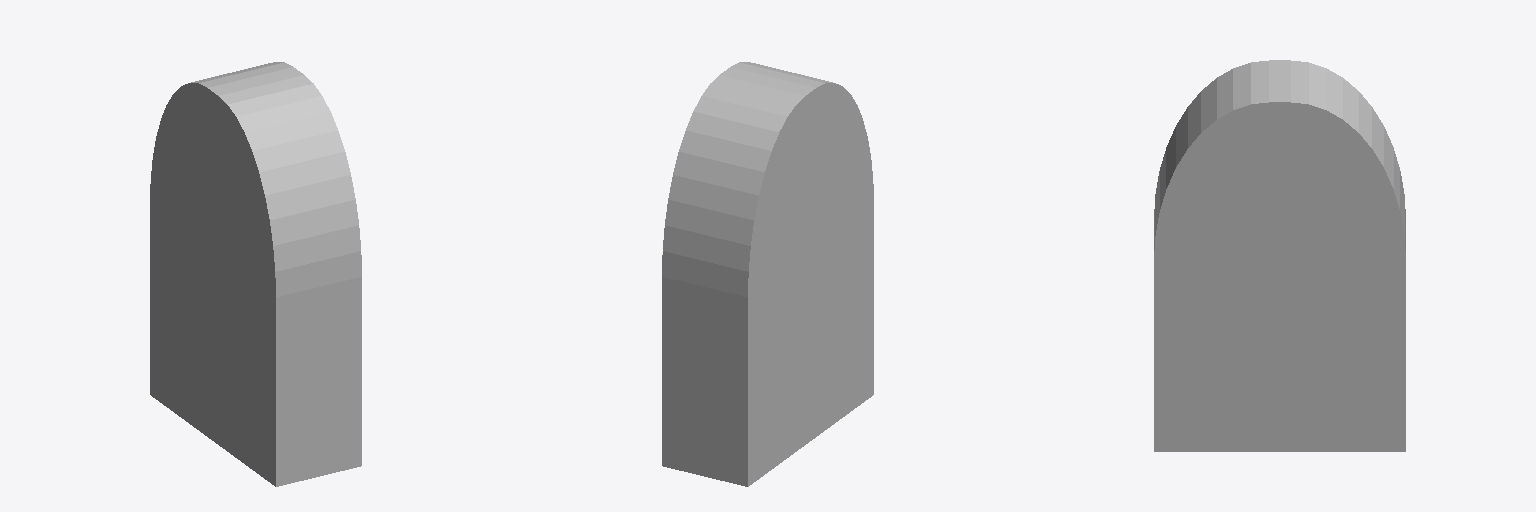
File: fingerplate.obj
The picture shows the model from 3 angles: view 1: azimuth 30°, elevation 25°; view 2: azimuth 150°, elevation 25°; view 3: azimuth 270°, elevation 25°; orthographic projection.
Visible parts, largest first — view 1: fingerplate; view 2: fingerplate; view 3: fingerplate.
Boxes of the visible parts, x1,y1,x2,y2 form: fingerplate: [150, 62, 361, 486]; fingerplate: [662, 62, 873, 486]; fingerplate: [1154, 60, 1405, 451].
Bounding box in the file's own units: 0.3824 × 1.48 × 0.9706.